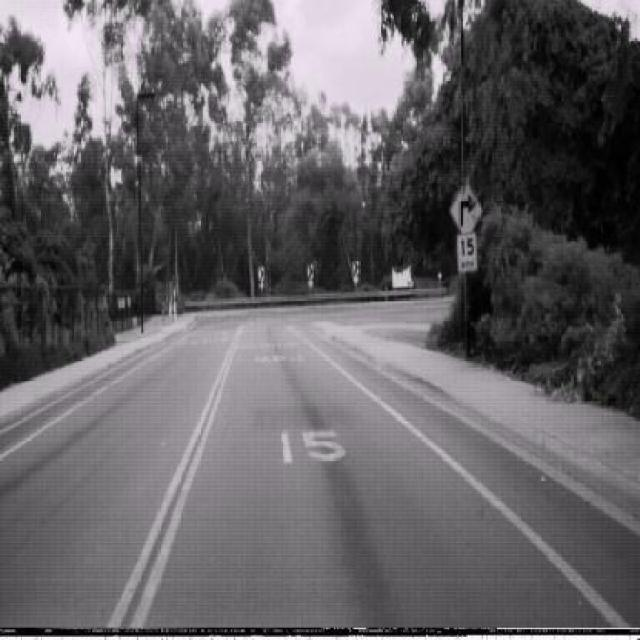turnRight: (450, 178, 482, 244)
